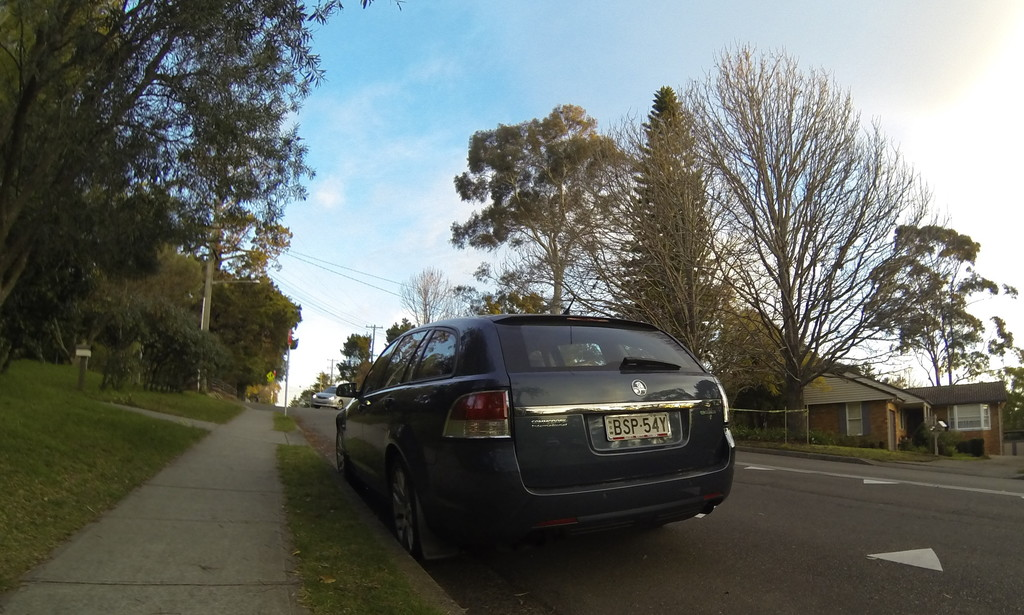license plate: (603, 412, 673, 441)
